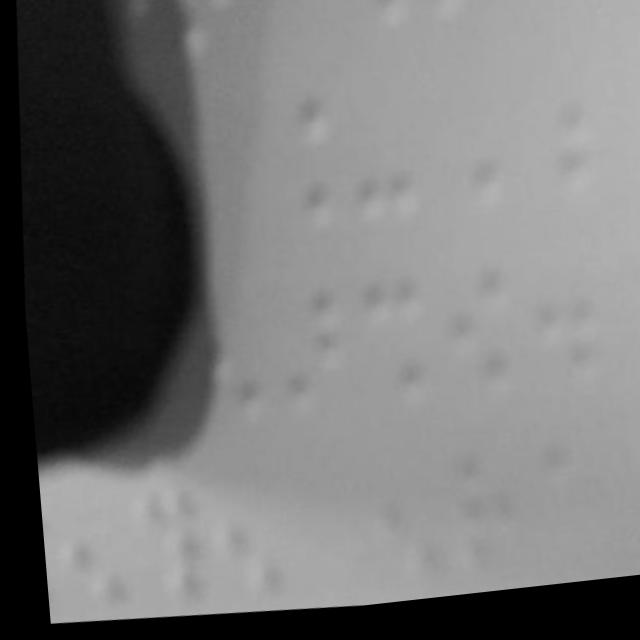braiile: (243, 80, 339, 238), (335, 72, 425, 233), (423, 69, 511, 224), (511, 66, 601, 217), (349, 456, 441, 603), (199, 470, 291, 617), (425, 268, 515, 416), (259, 274, 349, 422), (342, 274, 432, 418), (180, 277, 265, 426), (34, 479, 123, 620), (437, 453, 523, 595), (510, 267, 594, 406)
